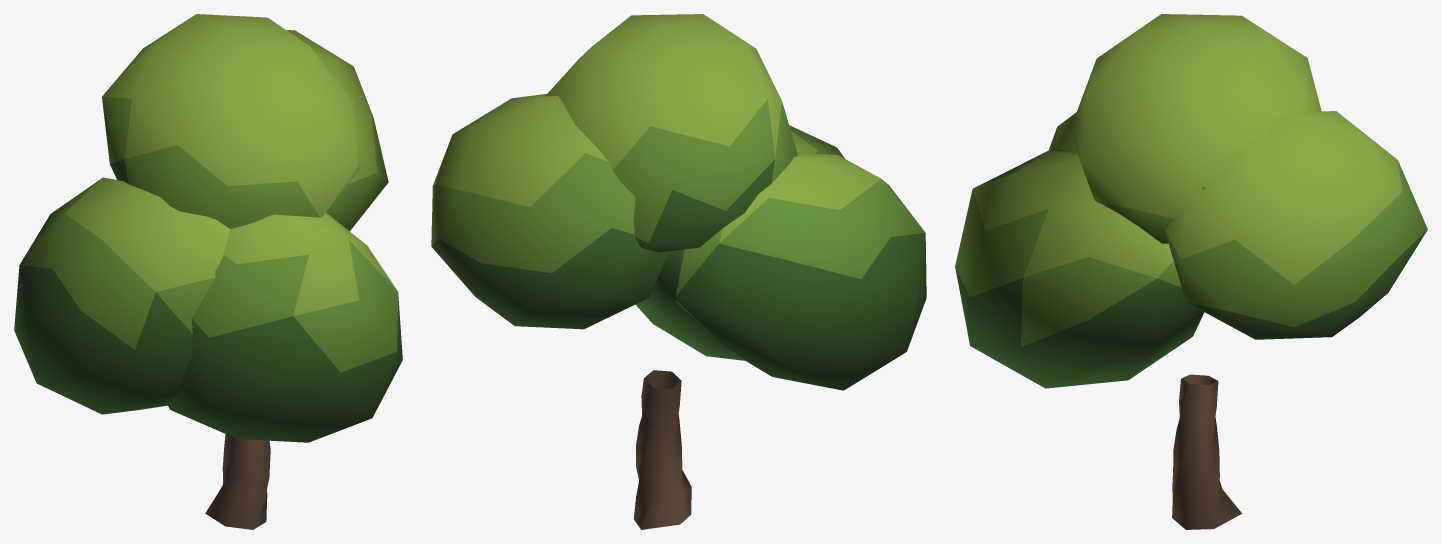
Rendered from BeechA_FAR.glb.
The picture shows the model from 3 angles, left to right: view 1: azimuth 30°, elevation 25°; view 2: azimuth 150°, elevation 25°; view 3: azimuth 270°, elevation 25°; orthographic projection.
Visible parts, largest first — view 1: BeechA_FAR.leafLight, BeechA_FAR.leafDark, BeechA_FAR.leafMid, BeechA_FAR.bark; view 2: BeechA_FAR.leafDark, BeechA_FAR.leafLight, BeechA_FAR.leafMid, BeechA_FAR.bark; view 3: BeechA_FAR.leafLight, BeechA_FAR.leafMid, BeechA_FAR.leafDark, BeechA_FAR.bark.
Boxes of the visible parts, x1,y1,x2,y2 form: BeechA_FAR.leafLight: (65,14,397,315); BeechA_FAR.leafDark: (14,159,402,442); BeechA_FAR.leafMid: (20,96,398,372); BeechA_FAR.bark: (205,434,270,529); BeechA_FAR.leafDark: (431,159,926,390); BeechA_FAR.leafLight: (433,14,880,242); BeechA_FAR.leafMid: (431,99,925,295); BeechA_FAR.bark: (634,370,691,529); BeechA_FAR.leafLight: (973,14,1402,284); BeechA_FAR.leafMid: (955,127,1427,346); BeechA_FAR.leafDark: (955,230,1427,388); BeechA_FAR.bark: (1172,374,1241,529).
Size of the model in its own units: 18.98 by 21.62 by 18.85.
